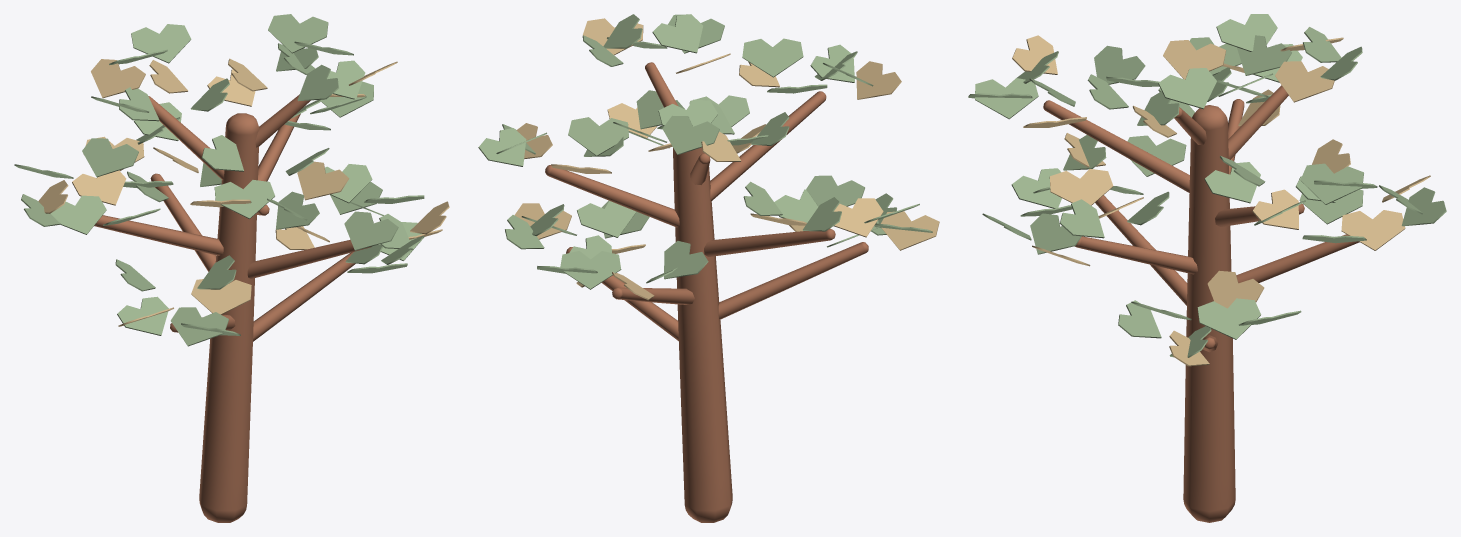
The model's file is primeval-frontier-ginkgo-tree-861efc18__1732.glb.
3 views of the same model, side by side, from view 1: azimuth 30°, elevation 25°; view 2: azimuth 150°, elevation 25°; view 3: azimuth 270°, elevation 25° (orthographic). The views are drawn at different scales.
Parts seen in each view (by area): view 1: ginkgo-tree; view 2: ginkgo-tree; view 3: ginkgo-tree.
Boxes of the visible parts, left/top/right/bottom form: ginkgo-tree: left=14, top=14, right=449, bottom=522; ginkgo-tree: left=478, top=14, right=939, bottom=522; ginkgo-tree: left=968, top=14, right=1446, bottom=522.
Size of the model in its own units: 4.16 by 4.56 by 4.03.
